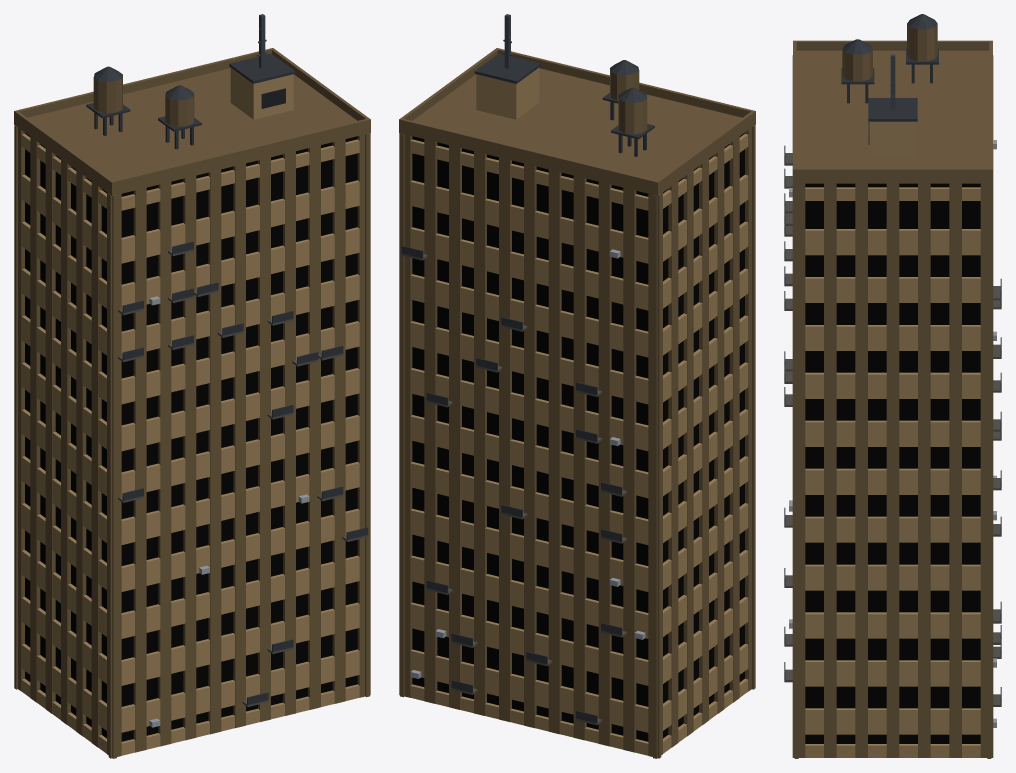
The model's file is env_city_residential.fbx.
The picture shows the model from 3 angles, left to right: view 1: azimuth 30°, elevation 25°; view 2: azimuth 150°, elevation 25°; view 3: azimuth 270°, elevation 25°; orthographic projection. The views are drawn at different scales.
Visible parts, largest first — view 1: env_city_residential; view 2: env_city_residential; view 3: env_city_residential.
Boxes of the visible parts, bbox=[...] form: env_city_residential: bbox=[14, 14, 370, 758]; env_city_residential: bbox=[399, 14, 755, 758]; env_city_residential: bbox=[784, 14, 1001, 758].
Bounding box in the file's own units: 5220 × 12650 × 3700.
